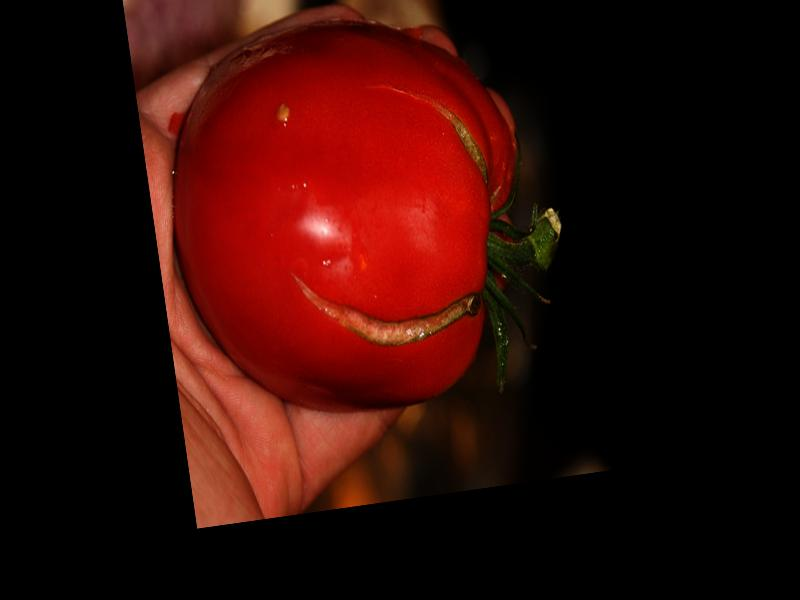Tomato: (148, 0, 546, 429)
